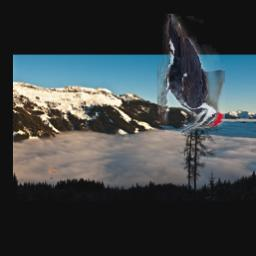Woodpecker: (157, 15, 225, 134)
